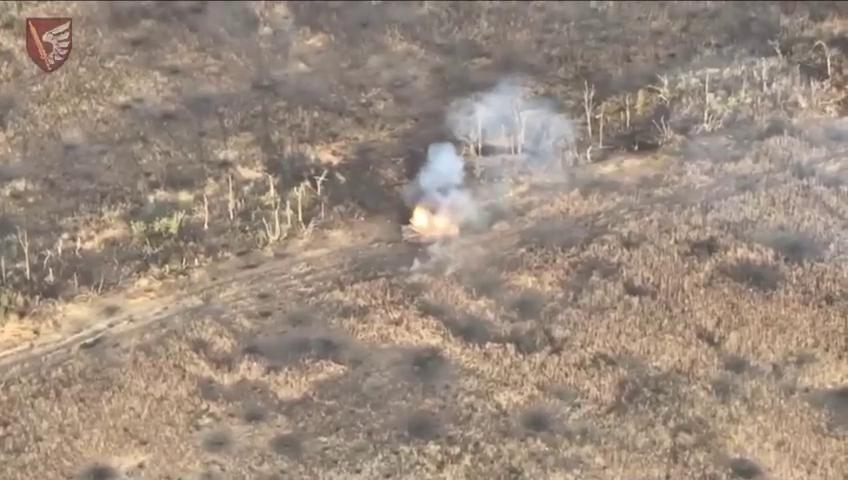tank: (399, 202, 464, 243)
